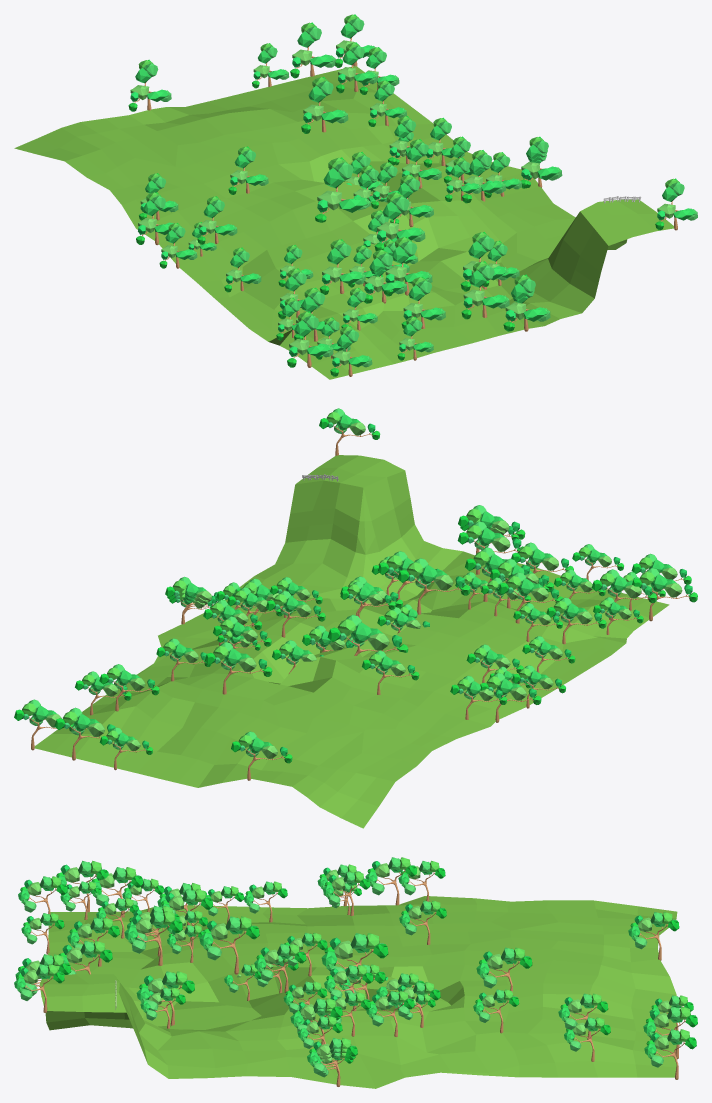
File: ground.glb
3 renders of one model, top to bottom at view 1: azimuth 30°, elevation 25°; view 2: azimuth 150°, elevation 25°; view 3: azimuth 270°, elevation 25°, orthographic. The views are drawn at different scales.
Visible parts, largest first — view 1: Plane; view 2: Plane; view 3: Plane.
Part boxes in pixels (bbox=[...]): Plane: bbox=[14, 66, 673, 379]; Plane: bbox=[34, 455, 669, 828]; Plane: bbox=[39, 896, 677, 1088].
Size of the model in its own units: 58.99 by 17.74 by 87.13.
